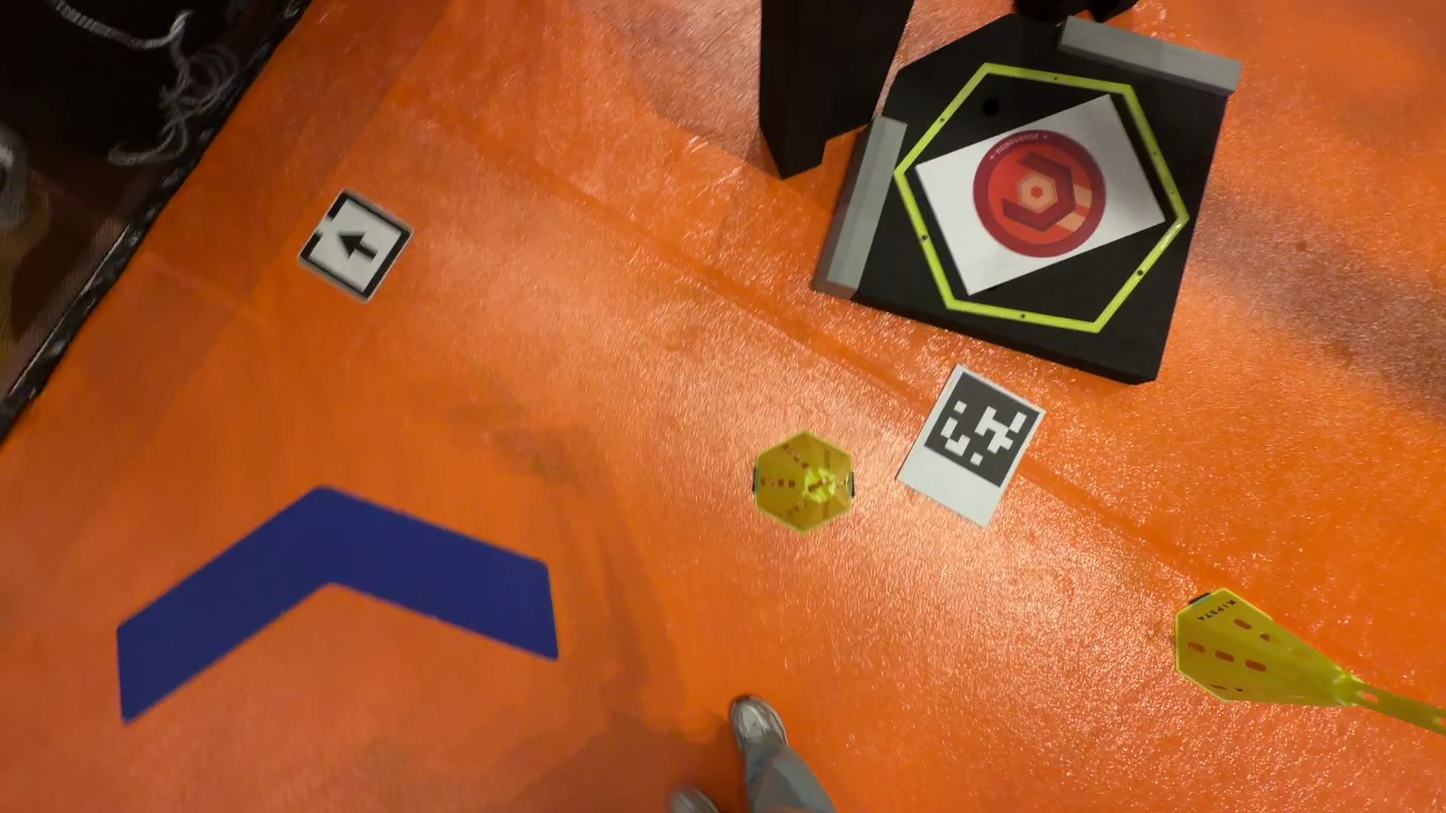landing_pad: (974, 131, 1107, 257)
